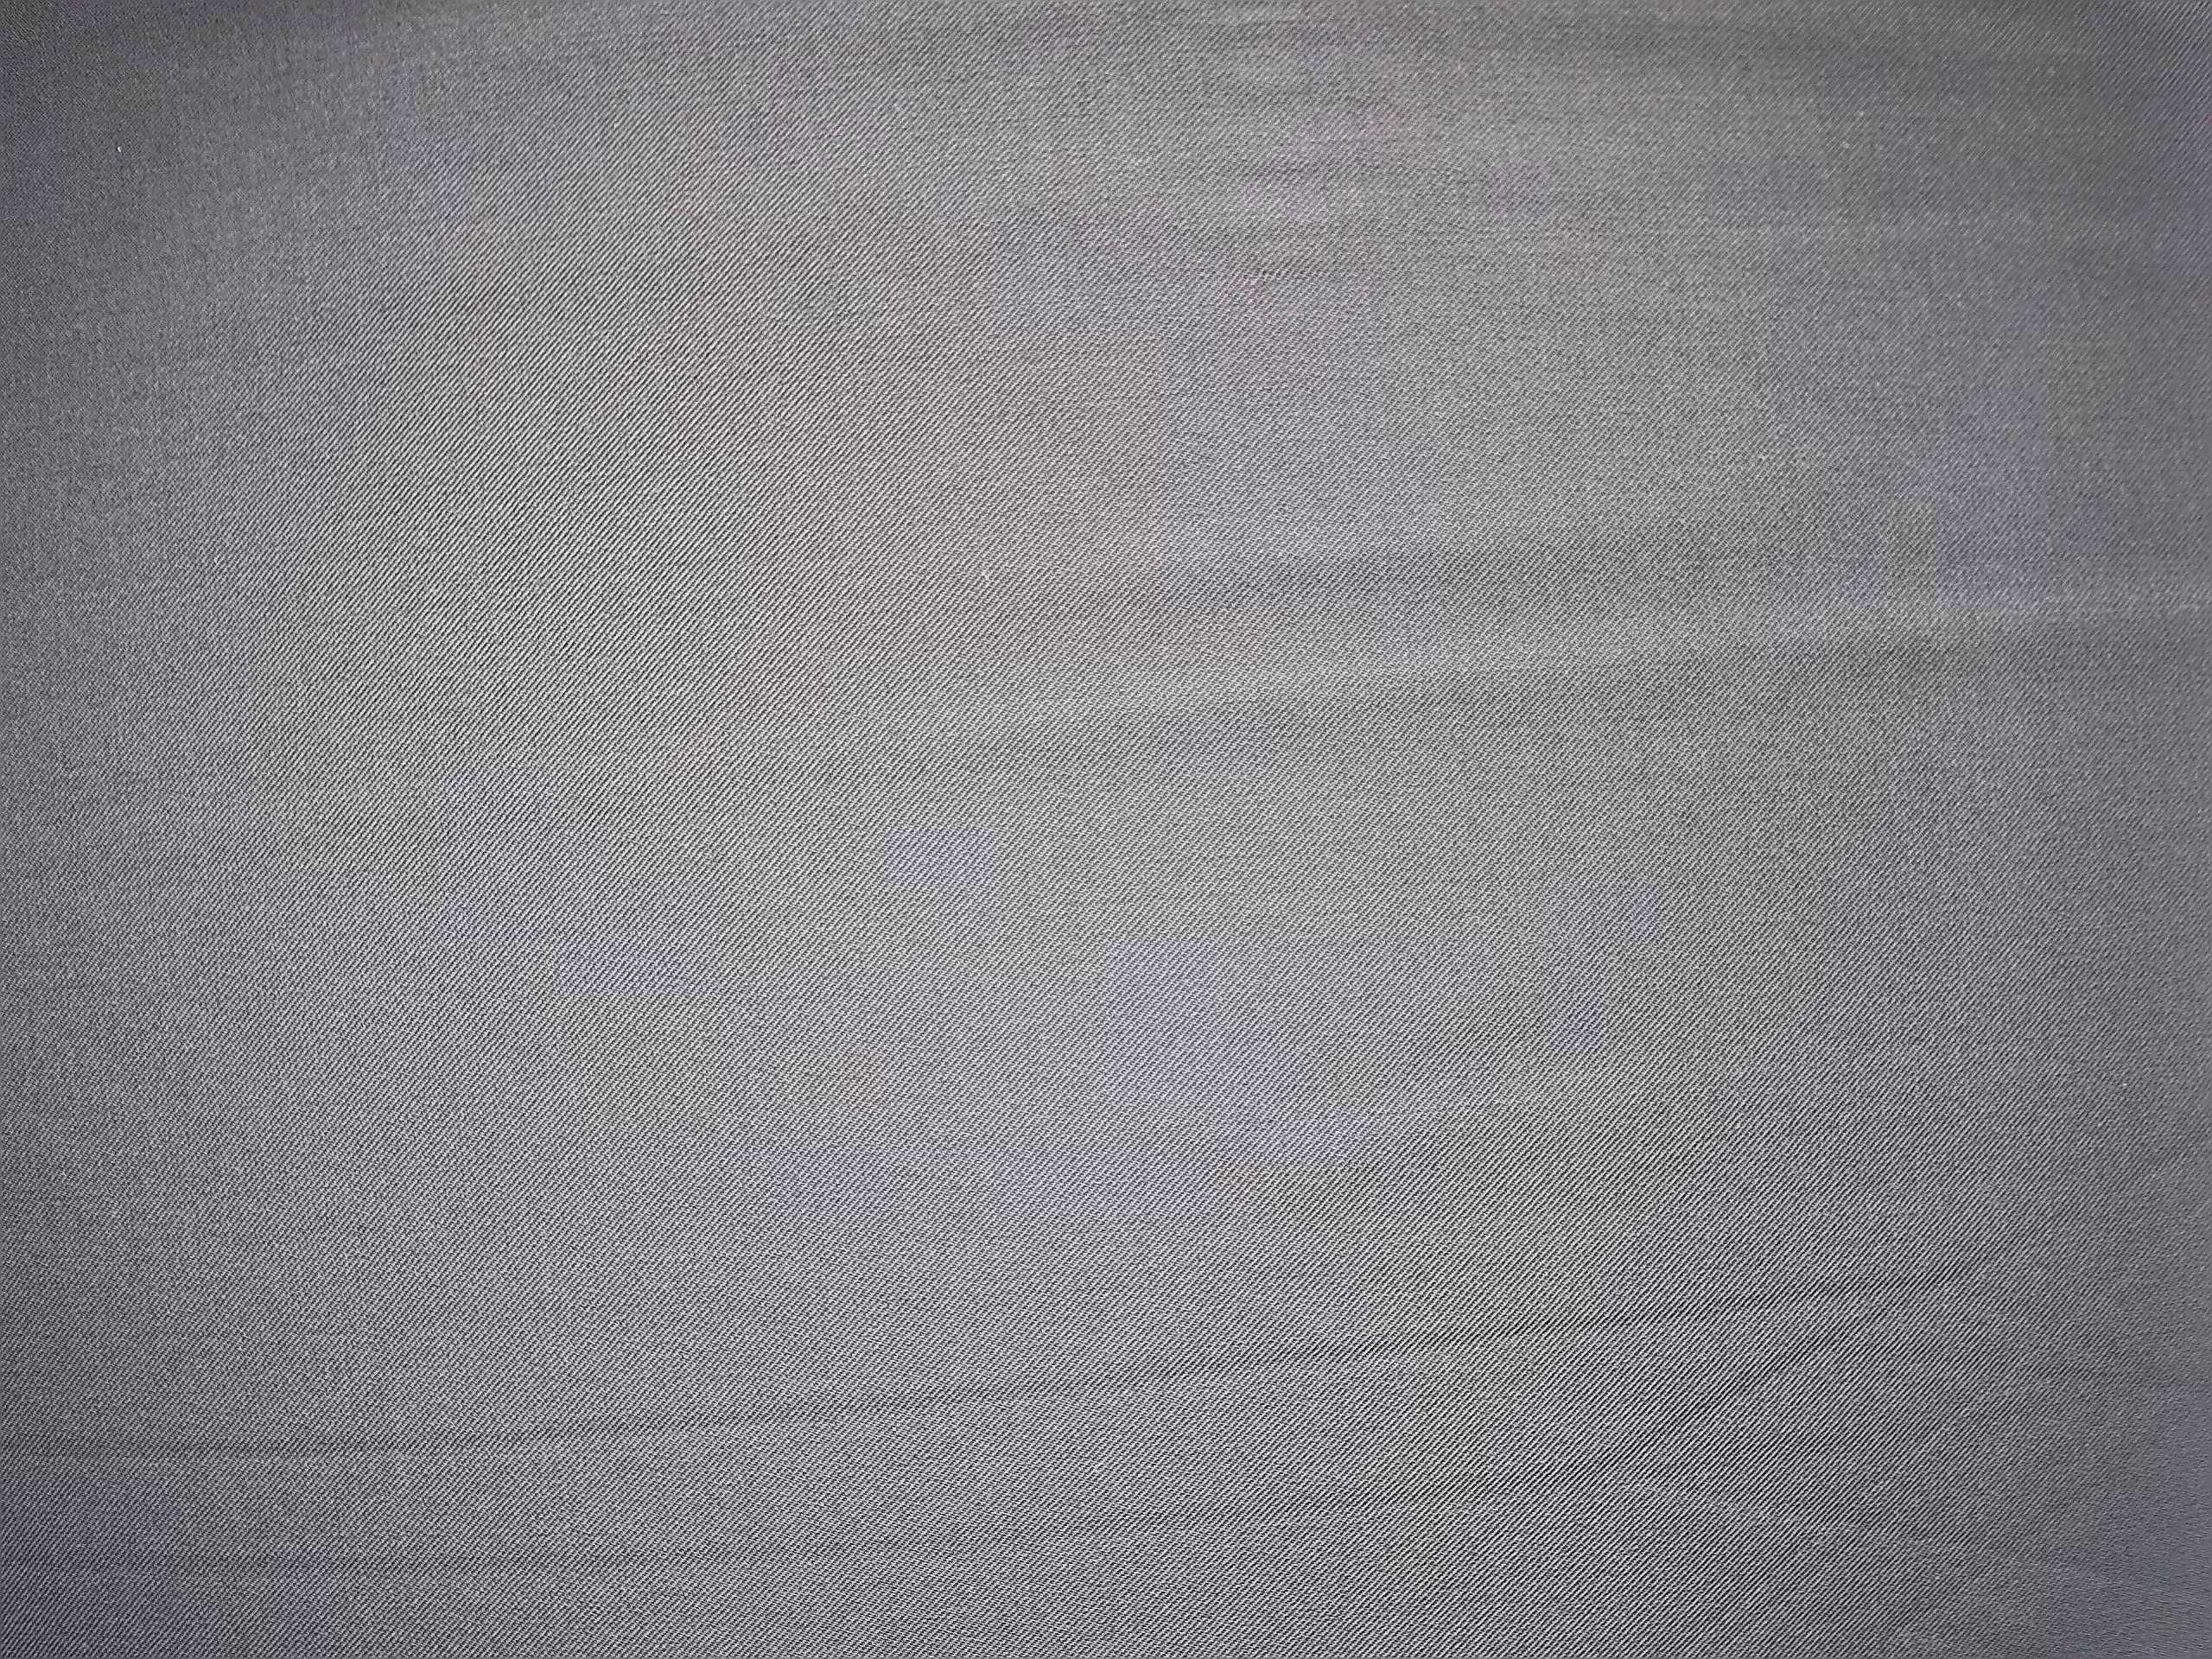thin-spinning: (1042, 221, 1552, 308)
